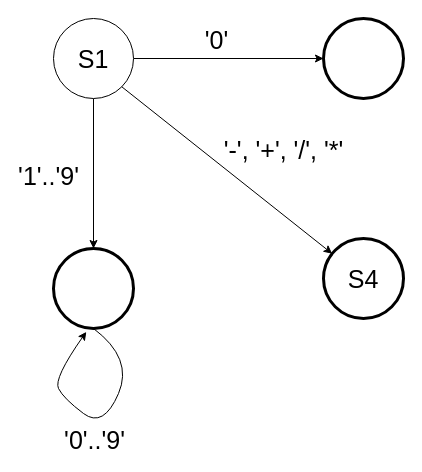
This 422x472 diagram has some shape labels left out. The shapes that lost their labels are listed below. From the top down, each one's centre as x and y in pixels, then its label:
At pixel 363 58: "S2".
At pixel 93 288: "S3".
